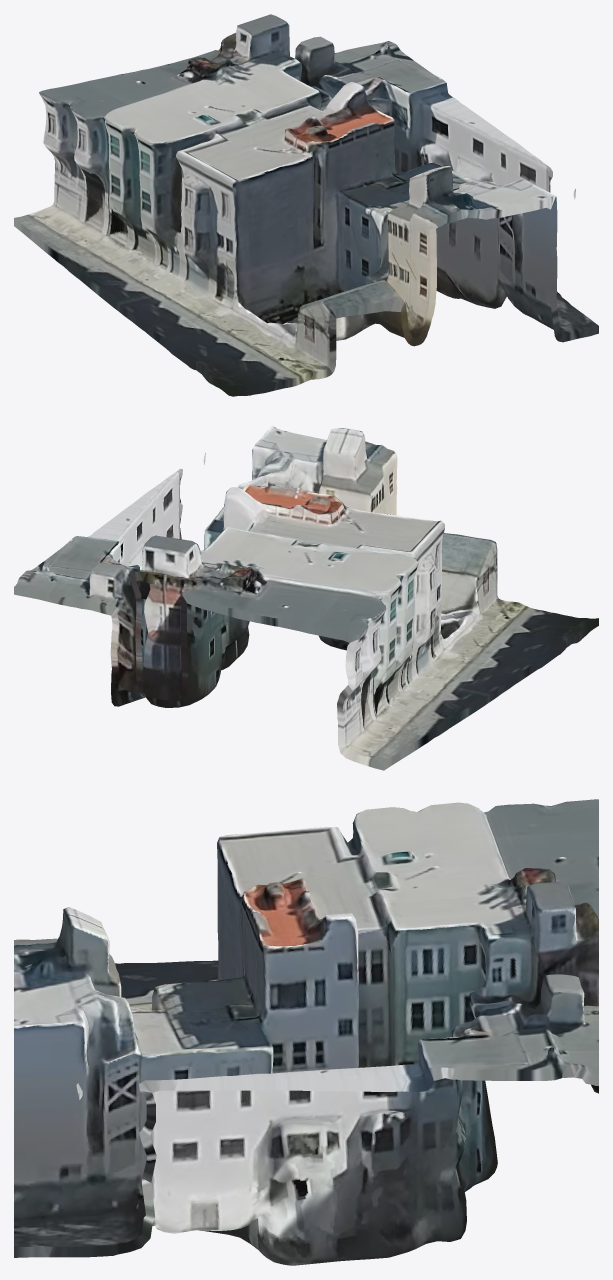
The model's file is z20-167733-405198-h0-yup-uvflip-v3-world.glb.
3 views of the same model, one above another, from view 1: azimuth 30°, elevation 25°; view 2: azimuth 150°, elevation 25°; view 3: azimuth 270°, elevation 25° (orthographic). The views are drawn at different scales.
Size of the model in its own units: 30.16 by 17.12 by 30.32.
Materials: 1 (1 with a texture image).
